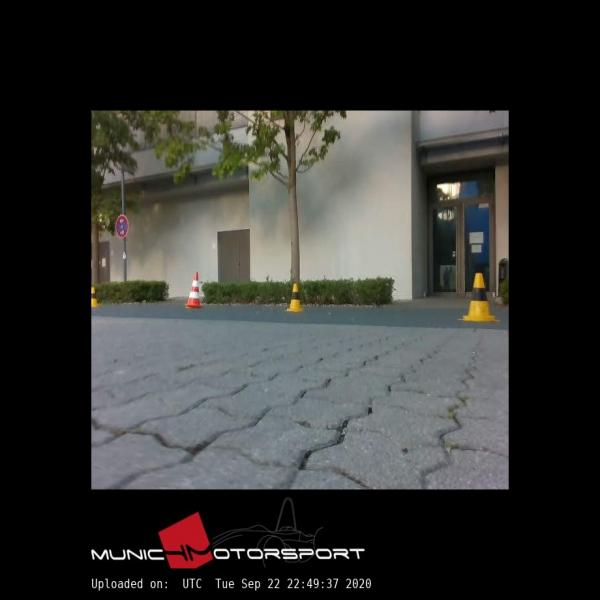large_orange_cone: (185, 272, 201, 307)
yellow_cone: (459, 273, 498, 321), (288, 284, 302, 311), (92, 288, 98, 306)
